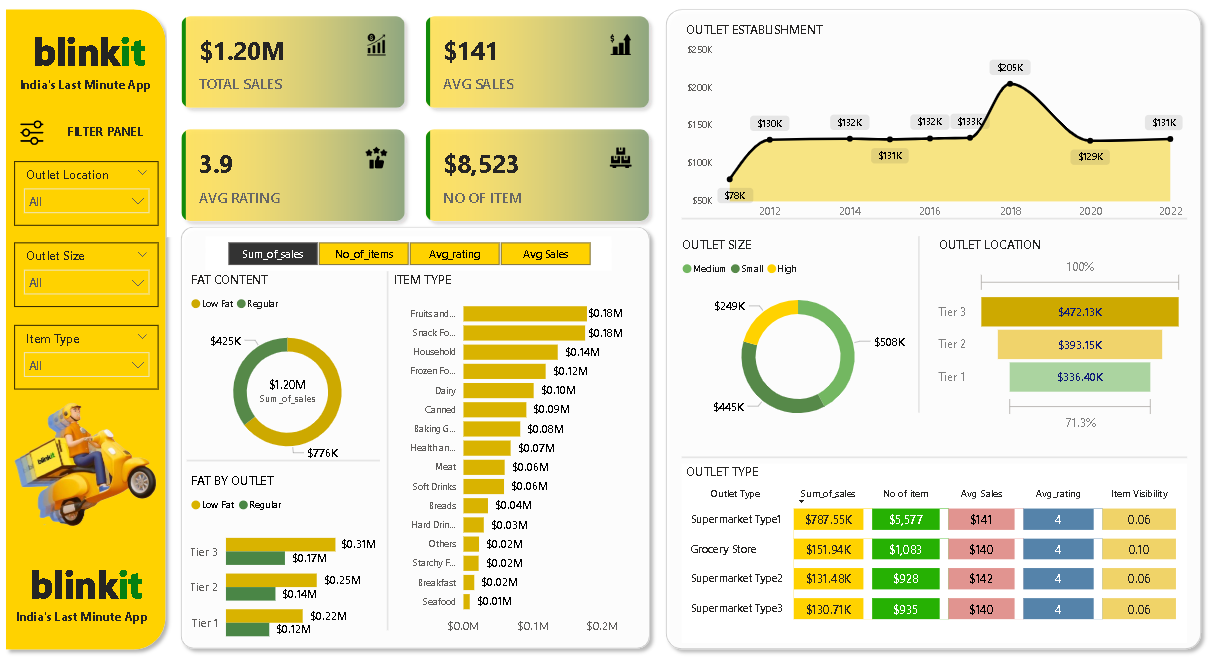

Layout of this report page (visuals, bound fields, positions):
{"tool":"powerbi","page":{"name":"Page 1","canvas":[1400,800],"ordinal":0},"visuals":[{"type":"shape","box":[0,23.7,200.4,750],"z":0},{"type":"textbox","box":[15.8,47.3,176.7,72.6],"z":1000},{"type":"textbox","box":[4.7,105.7,192.5,28.4],"z":2000},{"type":"cardVisual","fields":{"Data":["BlinkIT Grocery Data.Sum_of_sales","BlinkIT Grocery Data.Avg Sales","BlinkIT Grocery Data.Avg_rating","BlinkIT Grocery Data.No_of_rows"]},"box":[192.5,23.7,569.7,269.8],"z":3000},{"type":"shape","box":[200.4,273,553.9,500.2],"z":4000},{"type":"donutChart","title":"FAT CONTENT","fields":{"Y":["BlinkIT Grocery Data.Sum_of_sales"],"Category":["BlinkIT Grocery Data.Item Fat Content"]},"box":[216.2,333,230.4,230.4],"z":5000},{"type":"slicer","fields":{"Values":["Metrics.Metrics"]},"box":[236.7,293.5,463.9,39.5],"z":6000},{"type":"cardVisual","fields":{"Data":["BlinkIT Grocery Data.Sum_of_sales"]},"box":[267.1,425.7,128.6,87.1],"z":7000},{"type":"clusteredBarChart","title":"FAT BY OUTLET","fields":{"Y":["BlinkIT Grocery Data.Sum_of_sales"],"Category":["BlinkIT Grocery Data.Outlet Location Type"],"Series":["BlinkIT Grocery Data.Item Fat Content"]},"box":[216.2,563.4,220.9,209.9],"z":8000},{"type":"shape","box":[216.2,467.1,220.9,164.1],"z":9000},{"type":"shape","box":[427.6,333,36.3,410.3],"z":10000},{"type":"barChart","title":"ITEM TYPE","fields":{"Y":["BlinkIT Grocery Data.Sum_of_sales"],"Category":["BlinkIT Grocery Data.Item Type"]},"box":[446.6,333,288.8,424.5],"z":11000},{"type":"shape","box":[754.3,23.7,629.6,749.6],"z":12000},{"type":"lineChart","title":"OUTLET ESTABLISHMENT","fields":{"Y":["BlinkIT Grocery Data.Sum_of_sales"],"Category":["BlinkIT Grocery Data.Outlet Establishment Year"]},"box":[781.1,47.3,577.6,235.1],"z":13000},{"type":"shape","box":[781.1,244.6,577.6,56.8],"z":14000},{"type":"donutChart","title":"OUTLET SIZE","fields":{"Y":["BlinkIT Grocery Data.Sum_of_sales"],"Category":["BlinkIT Grocery Data.Outlet Size"]},"box":[777.5,293.6,274.8,229.2],"z":15000},{"type":"shape","box":[1033.6,293.5,36.3,202],"z":16000},{"type":"funnel","title":"OUTLET LOCATION","fields":{"Y":["BlinkIT Grocery Data.Sum_of_sales"],"Category":["BlinkIT Grocery Data.Outlet Location Type"]},"box":[1069.7,293.6,289.5,229.2],"z":17000},{"type":"shape","box":[781.1,503.4,577.6,85.2],"z":18000},{"type":"pivotTable","title":"OUTLET TYPE","fields":{"Rows":["BlinkIT Grocery Data.Outlet Type"],"Values":["BlinkIT Grocery Data.Sum_of_sales","BlinkIT Grocery Data.No_of_rows","BlinkIT Grocery Data.Avg Sales","BlinkIT Grocery Data.Avg_rating","Avg(BlinkIT Grocery Data.Item Visibility)"]},"box":[781.1,552.3,577.6,205.1],"z":19000},{"type":"slicer","fields":{"Values":["BlinkIT Grocery Data.Outlet Location Type"]},"box":[18.8,207.8,164.9,73.7],"z":20000},{"type":"slicer","fields":{"Values":["BlinkIT Grocery Data.Outlet Size"]},"box":[18.8,300.3,164.9,73.7],"z":21000},{"type":"slicer","fields":{"Values":["BlinkIT Grocery Data.Item Type"]},"box":[18.8,394.1,164.9,73.7],"z":22000},{"type":"textbox","box":[63,158.2,120.6,34.9],"z":23000},{"type":"image","box":[14.7,155.5,48.3,37.5],"z":24000},{"type":"textbox","box":[13.4,655.5,176.9,72.4],"z":25000},{"type":"textbox","box":[0,713.1,193,29.5],"z":25001},{"type":"image","box":[13.4,467.8,176.9,178.3],"z":25002}]}

Visuals, with their boxes on the page's 1400x800 design canvas (x1, y1, x2, y2). These are canvas units, not pixel positions in the 1208x661 screenshot, which may show the page scaled, cropped or inside an application window:
shape: (x1=0, y1=24, x2=200, y2=774)
textbox: (x1=16, y1=47, x2=192, y2=120)
textbox: (x1=5, y1=106, x2=197, y2=134)
cardVisual - BlinkIT Grocery Data.Sum_of_sales x BlinkIT Grocery Data.Avg Sales: (x1=192, y1=24, x2=762, y2=294)
shape: (x1=200, y1=273, x2=754, y2=773)
"FAT CONTENT" donutChart: (x1=216, y1=333, x2=447, y2=563)
slicer - Metrics.Metrics: (x1=237, y1=294, x2=701, y2=333)
cardVisual - BlinkIT Grocery Data.Sum_of_sales: (x1=267, y1=426, x2=396, y2=513)
"FAT BY OUTLET" clusteredBarChart: (x1=216, y1=563, x2=437, y2=773)
shape: (x1=216, y1=467, x2=437, y2=631)
shape: (x1=428, y1=333, x2=464, y2=743)
"ITEM TYPE" barChart: (x1=447, y1=333, x2=735, y2=758)
shape: (x1=754, y1=24, x2=1384, y2=773)
"OUTLET ESTABLISHMENT" lineChart: (x1=781, y1=47, x2=1359, y2=282)
shape: (x1=781, y1=245, x2=1359, y2=301)
"OUTLET SIZE" donutChart: (x1=778, y1=294, x2=1052, y2=523)
shape: (x1=1034, y1=294, x2=1070, y2=496)
"OUTLET LOCATION" funnel: (x1=1070, y1=294, x2=1359, y2=523)
shape: (x1=781, y1=503, x2=1359, y2=589)
"OUTLET TYPE" pivotTable: (x1=781, y1=552, x2=1359, y2=757)
slicer - BlinkIT Grocery Data.Outlet Location Type: (x1=19, y1=208, x2=184, y2=282)
slicer - BlinkIT Grocery Data.Outlet Size: (x1=19, y1=300, x2=184, y2=374)
slicer - BlinkIT Grocery Data.Item Type: (x1=19, y1=394, x2=184, y2=468)
textbox: (x1=63, y1=158, x2=184, y2=193)
image: (x1=15, y1=156, x2=63, y2=193)
textbox: (x1=13, y1=656, x2=190, y2=728)
textbox: (x1=0, y1=713, x2=193, y2=743)
image: (x1=13, y1=468, x2=190, y2=646)
